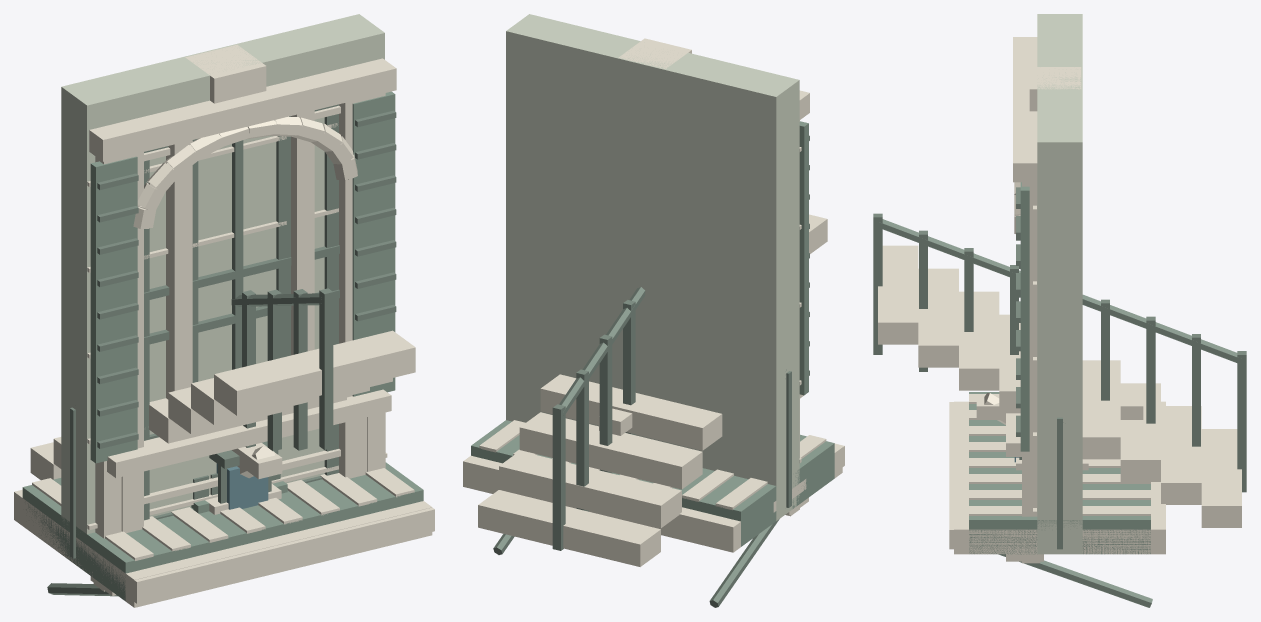
The model's file is kit.glb.
3 views of the same model, side by side, from view 1: azimuth 30°, elevation 25°; view 2: azimuth 150°, elevation 25°; view 3: azimuth 270°, elevation 25° (orthographic). The views are drawn at different scales.
Parts seen in each view (by area): view 1: wall.007, wall jamb.018, shutter, canopy.001, tread.008, shutter.001, lintel.009, fascia, wall above.009, stone surround.010, balcony slab, lintel.003 (+63 smaller); view 2: wall jamb.018, wall jamb.011, wall.007, wall.002, wall jamb.019, wall jamb.010, wall above.009, wall.006, wall.001, wall jamb.007, tread, tread.001 (+25 smaller); view 3: wall jamb.019, canopy.001, balcony slab, tread.008, tread, tread.006, tread.007, tread.001, tread.003, stone surround.025, wall above.012, tread.002 (+27 smaller).
Part boxes in pixels (box(x1,y1,x2,y2)): wall.007: box(61, 18, 384, 533); wall jamb.018: box(61, 76, 131, 533); shutter: box(90, 156, 137, 463); canopy.001: box(22, 462, 423, 601); tread.008: box(214, 330, 415, 415); shutter.001: box(352, 91, 395, 396); lintel.009: box(108, 63, 377, 156); fascia: box(134, 507, 434, 603); wall above.009: box(106, 25, 340, 119); stone surround.010: box(166, 140, 192, 399); balcony slab: box(14, 489, 432, 607); lintel.003: box(112, 66, 374, 155); wall jamb.018: box(735, 74, 799, 520); wall jamb.011: box(506, 15, 593, 420); wall.007: box(506, 14, 796, 419); wall.002: box(607, 56, 674, 390); wall jamb.019: box(506, 14, 551, 422); wall jamb.010: box(688, 74, 792, 404); wall above.009: box(546, 24, 758, 136); wall.006: box(621, 60, 661, 386); wall.001: box(573, 58, 708, 425); wall jamb.007: box(507, 15, 549, 422); tread: box(478, 490, 660, 566); tread.001: box(499, 451, 681, 528); wall jamb.019: box(1037, 123, 1082, 554); canopy.001: box(969, 392, 1150, 554); balcony slab: box(954, 401, 1165, 554); tread.008: box(878, 245, 918, 344); tread: box(1201, 429, 1241, 527); tread.006: box(959, 291, 999, 390); tread.007: box(918, 268, 958, 367); tread.001: box(1161, 406, 1201, 504); tread.003: box(1082, 360, 1120, 459); stone surround.025: box(1022, 182, 1040, 563); wall above.012: box(1037, 25, 1082, 130); tread.002: box(1120, 383, 1160, 481).
Size of the model in its own units: 2.04 by 3.48 by 2.46.
